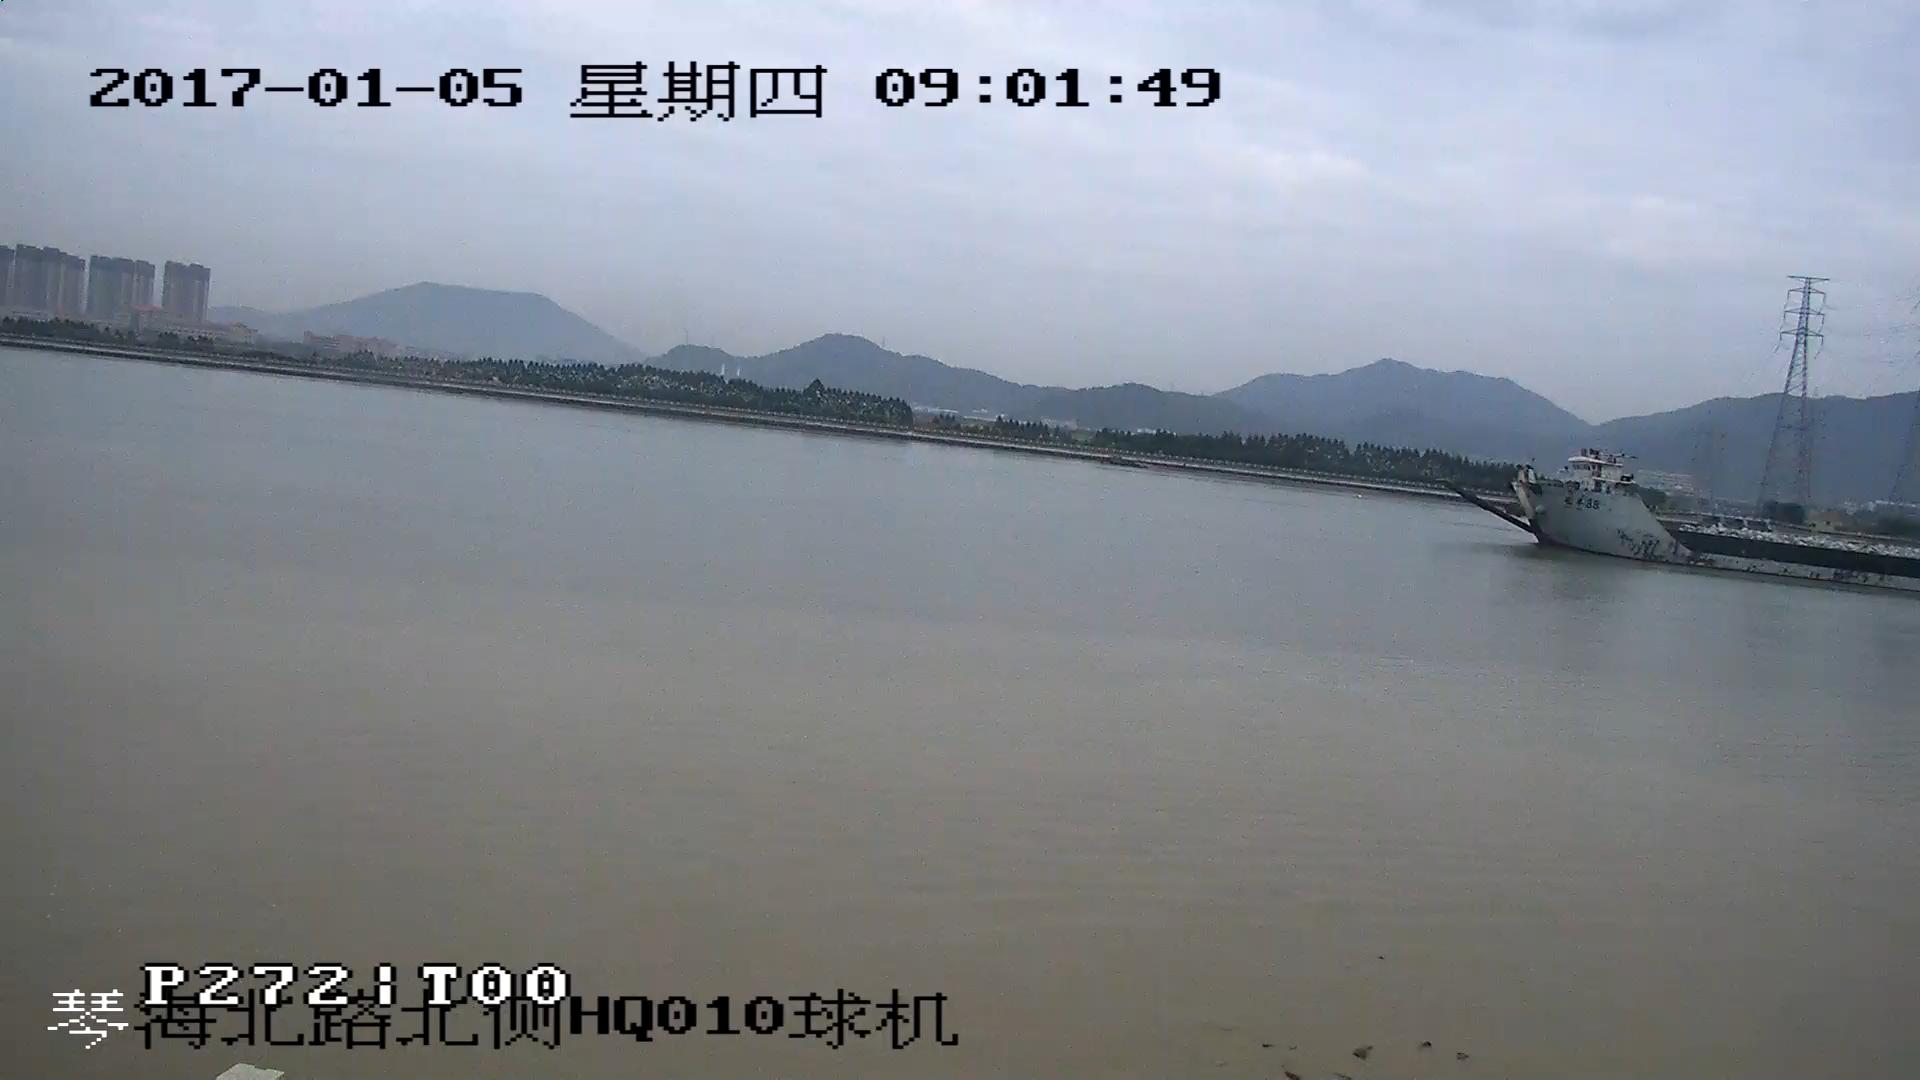bulk cargo carrier: (1448, 451, 1920, 591)
